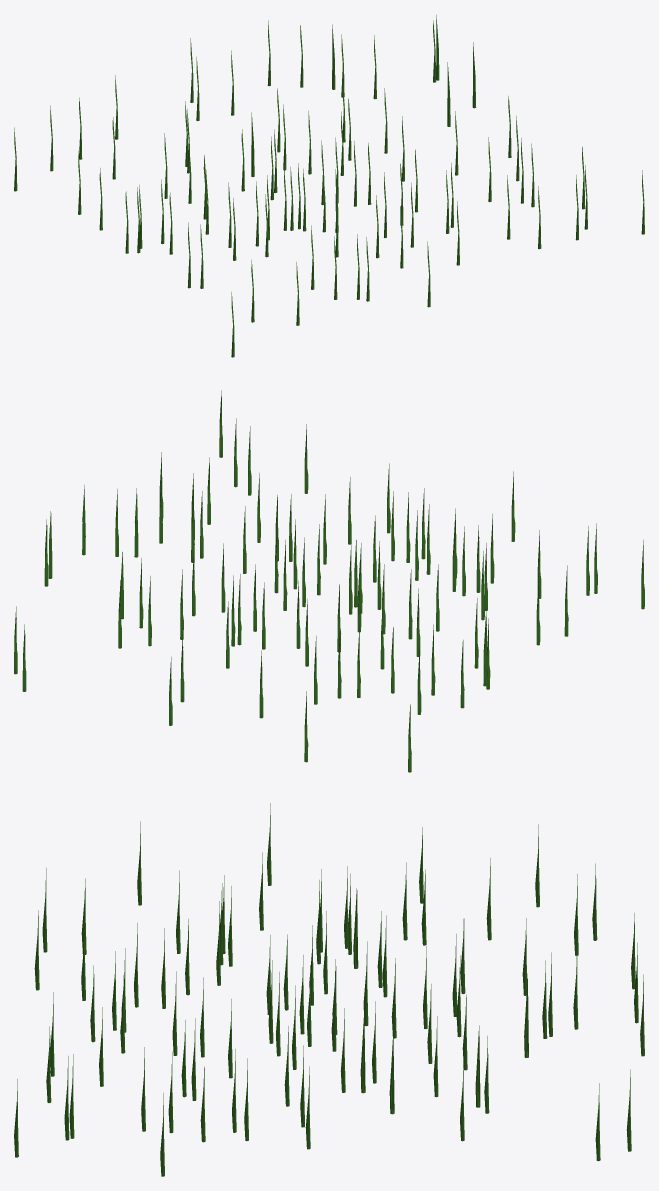
File: gazonVivant.fbx
The picture shows the model from 3 angles, top to bottom: view 1: azimuth 30°, elevation 25°; view 2: azimuth 150°, elevation 25°; view 3: azimuth 270°, elevation 25°; orthographic projection. The views are drawn at different scales.
Parts seen in each view (by area): view 1: Cylinder; view 2: Cylinder; view 3: Cylinder.
Part boxes in pixels (x1=…): Cylinder: x1=14, y1=15, x2=644, y2=357; Cylinder: x1=14, y1=390, x2=644, y2=772; Cylinder: x1=14, y1=803, x2=644, y2=1176.
Size of the model in its own units: 182 by 52.64 by 186.
1 material, 1 textured.
